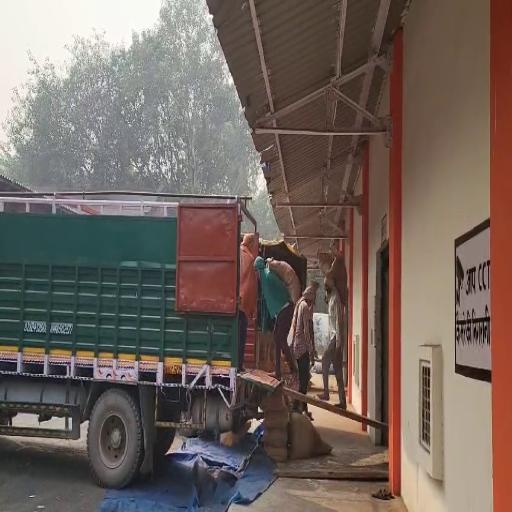bag: (317, 237, 353, 300), (265, 256, 301, 306)
